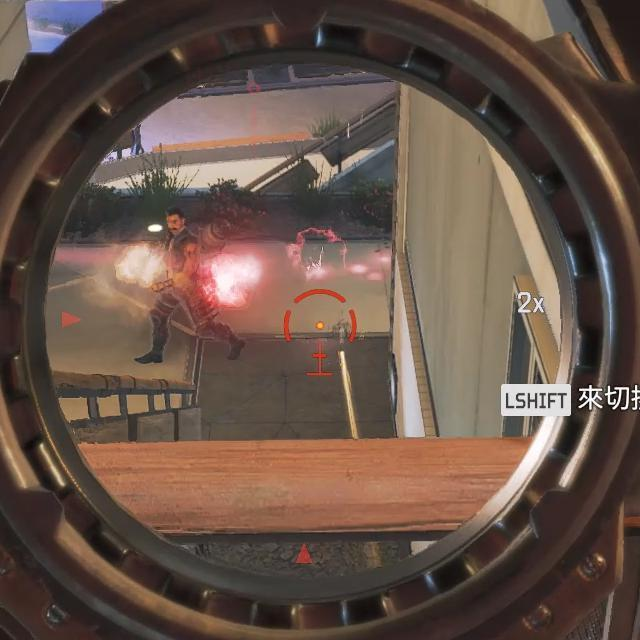avatar: (131, 207, 247, 367)
